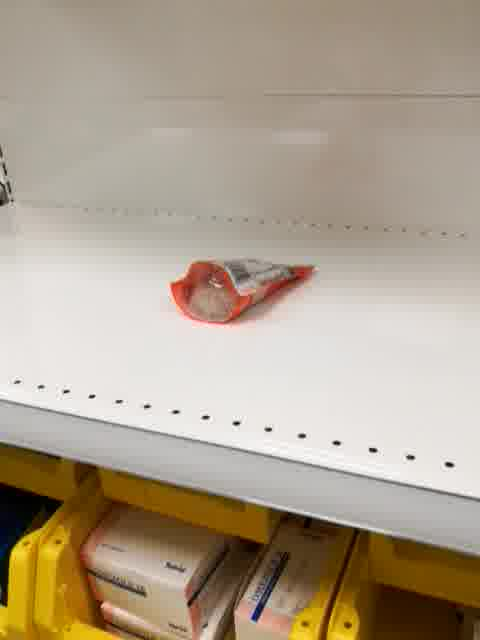whitechia: (165, 257, 317, 327)
